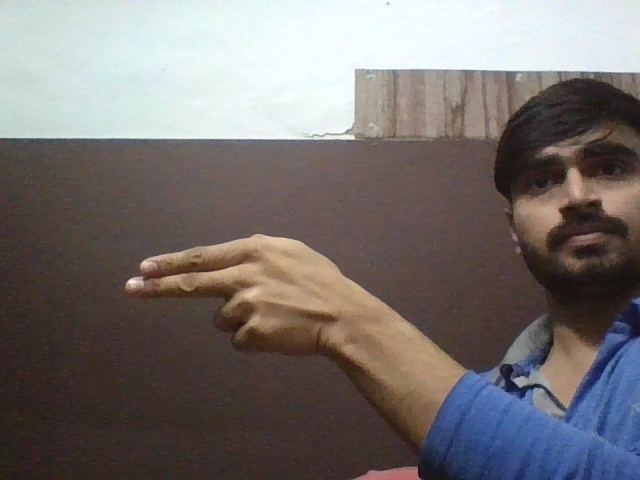H: (112, 229, 374, 366)
